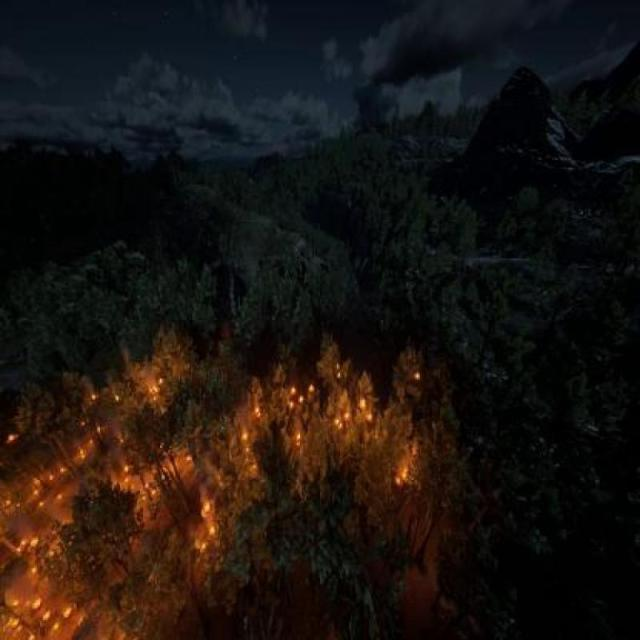Fire: (0, 327, 446, 640)
